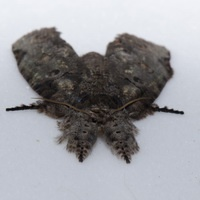insect: (12, 27, 172, 162)
